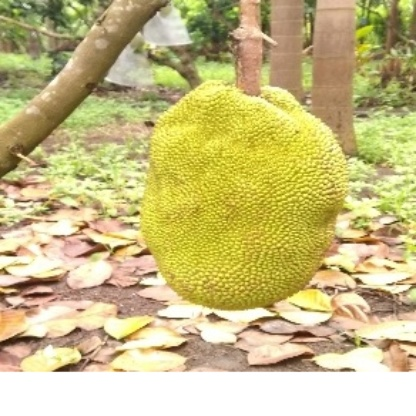mit: (126, 58, 353, 318)
